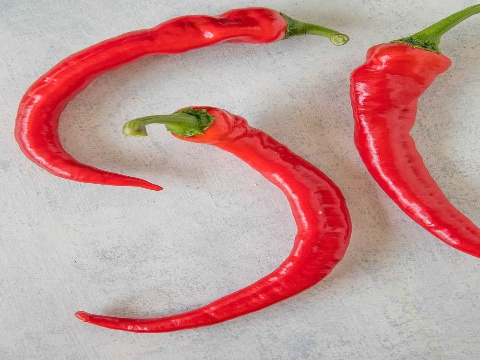Chilli: (348, 15, 480, 257)
